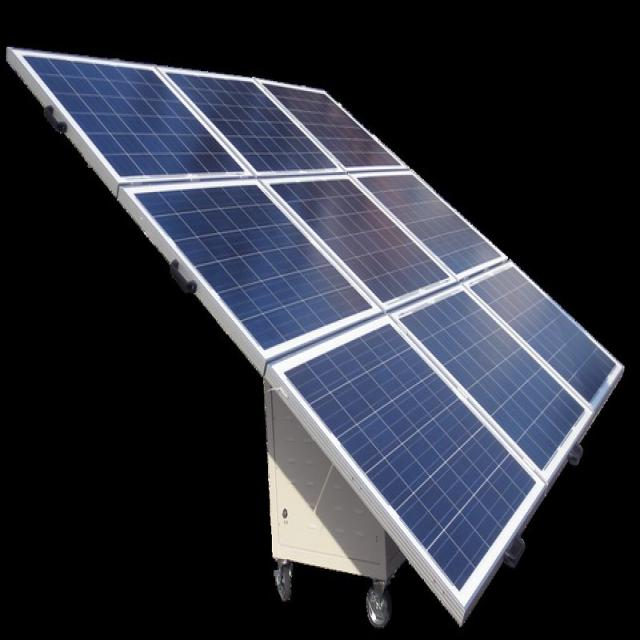no faulty: (16, 57, 612, 600)
